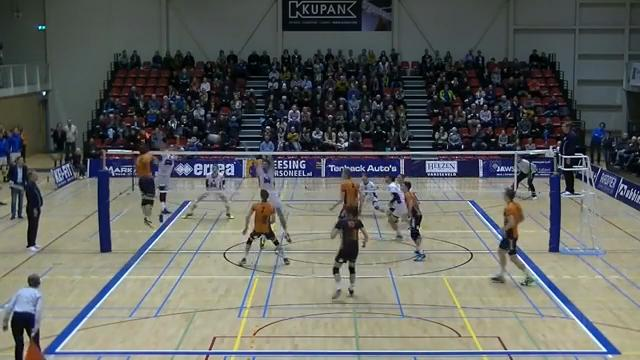Attack: (124, 144, 156, 233)
Block: (156, 135, 186, 228)
Player: (491, 188, 533, 285), (240, 189, 289, 265), (330, 206, 368, 299), (256, 157, 291, 242), (184, 166, 233, 218), (401, 181, 425, 260), (330, 167, 359, 217), (385, 174, 406, 239), (359, 173, 383, 211)
ball: (207, 133, 219, 142)
